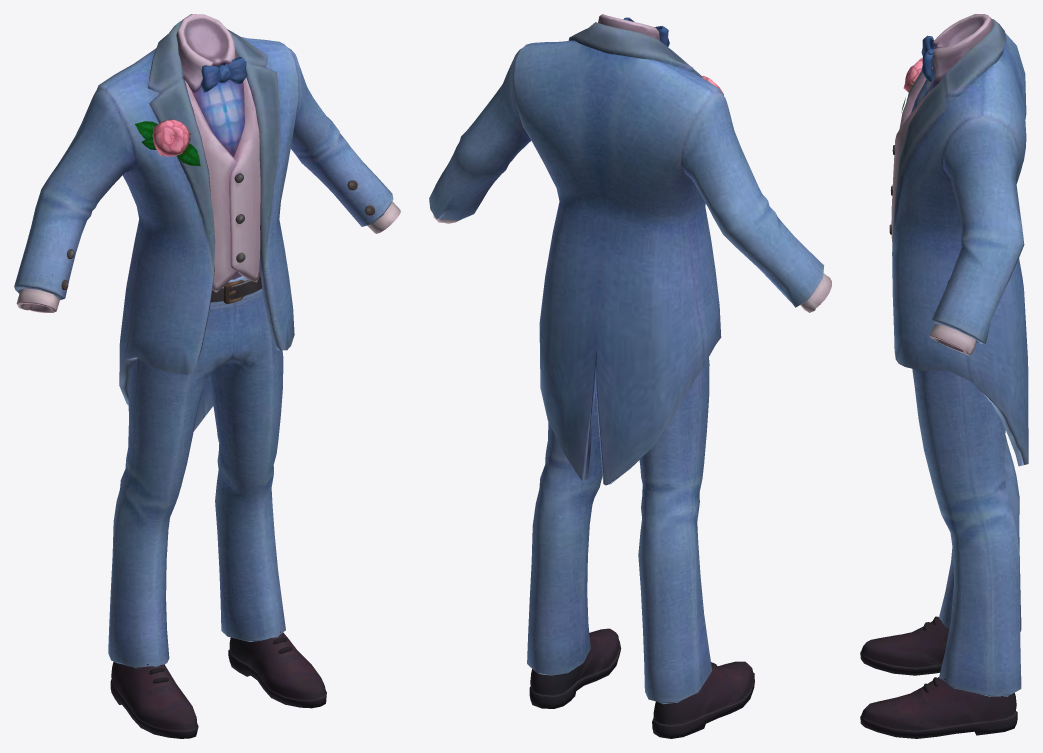
File: outfit4.glb
The picture shows the model from 3 angles, left to right: view 1: azimuth 30°, elevation 25°; view 2: azimuth 150°, elevation 25°; view 3: azimuth 270°, elevation 25°; orthographic projection. The views are drawn at different scales.
Visible parts, largest first — view 1: Wolf3D_Outfit_Top, Wolf3D_Outfit_Bottom, Wolf3D_Outfit_Footwear; view 2: Wolf3D_Outfit_Top, Wolf3D_Outfit_Bottom, Wolf3D_Outfit_Footwear; view 3: Wolf3D_Outfit_Top, Wolf3D_Outfit_Bottom, Wolf3D_Outfit_Footwear.
Boxes of the visible parts, box(x1,y1,x2,y2) form: Wolf3D_Outfit_Top: box(14, 14, 400, 431); Wolf3D_Outfit_Bottom: box(108, 275, 285, 668); Wolf3D_Outfit_Footwear: box(110, 631, 326, 738); Wolf3D_Outfit_Top: box(429, 14, 831, 485); Wolf3D_Outfit_Bottom: box(527, 357, 712, 704); Wolf3D_Outfit_Footwear: box(529, 628, 754, 738); Wolf3D_Outfit_Top: box(889, 14, 1028, 466); Wolf3D_Outfit_Bottom: box(912, 369, 1021, 696); Wolf3D_Outfit_Footwear: box(860, 616, 1017, 738).
Bounding box in the file's own units: 0.9717 × 1.64 × 0.3675.
Materials: 3 (3 with a texture image).
